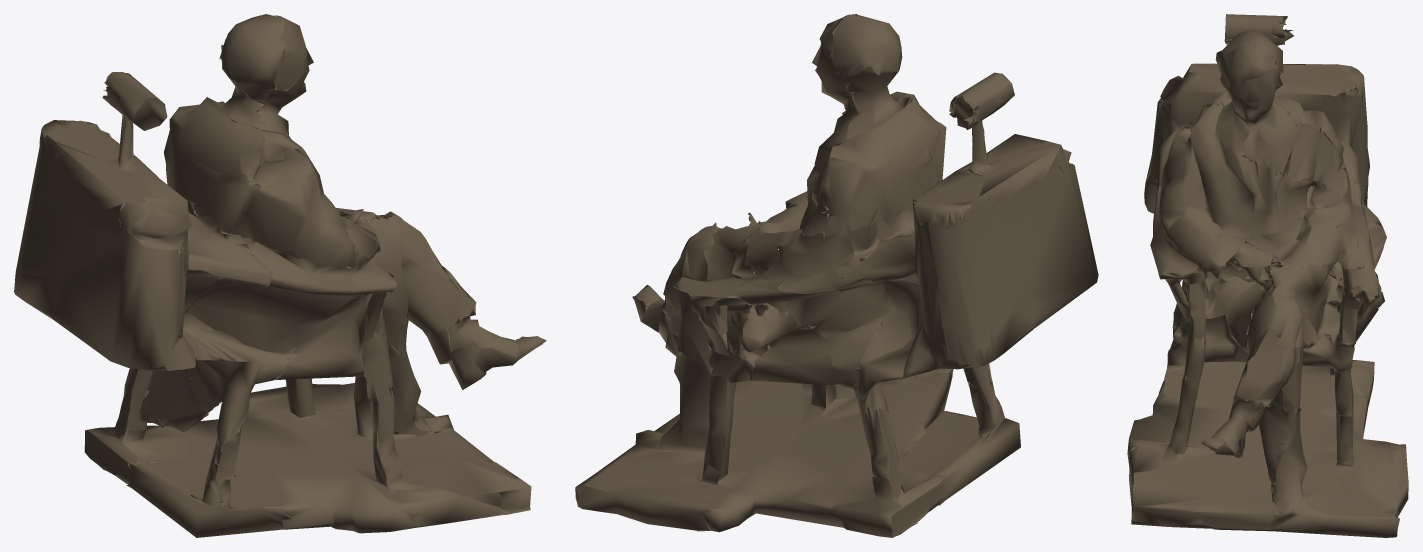
File: niu-h31-far.glb
3 renders of one model, left to right at view 1: azimuth 30°, elevation 25°; view 2: azimuth 150°, elevation 25°; view 3: azimuth 270°, elevation 25°, orthographic. The views are drawn at different scales.
Parts seen in each view (by area): view 1: tripo_node_29577416-d8e3-4d79-a23a-e74ecf3c1843; view 2: tripo_node_29577416-d8e3-4d79-a23a-e74ecf3c1843; view 3: tripo_node_29577416-d8e3-4d79-a23a-e74ecf3c1843.
Part boxes in pixels (x1,y1,x2,y2): tripo_node_29577416-d8e3-4d79-a23a-e74ecf3c1843: (14,14,546,537); tripo_node_29577416-d8e3-4d79-a23a-e74ecf3c1843: (575,14,1098,537); tripo_node_29577416-d8e3-4d79-a23a-e74ecf3c1843: (1127,14,1408,537).
Size of the model in its own units: 1.56 by 1.61 by 0.9921.
